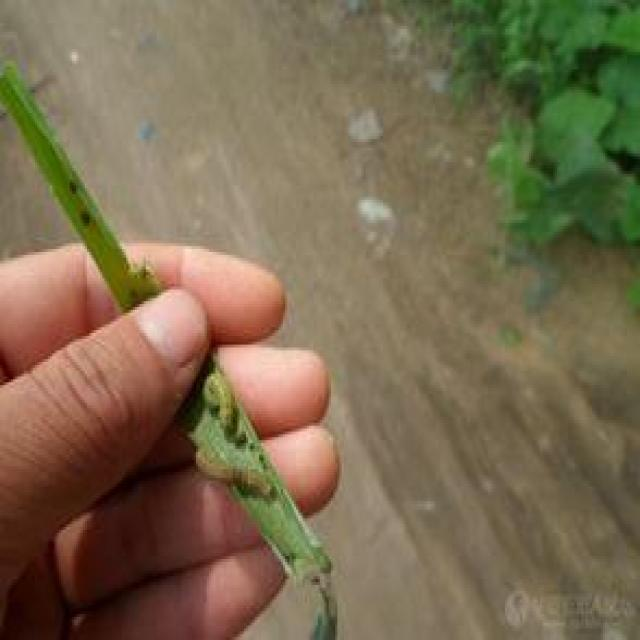BeetArmyWorm-Larva-: (199, 368, 237, 440)
